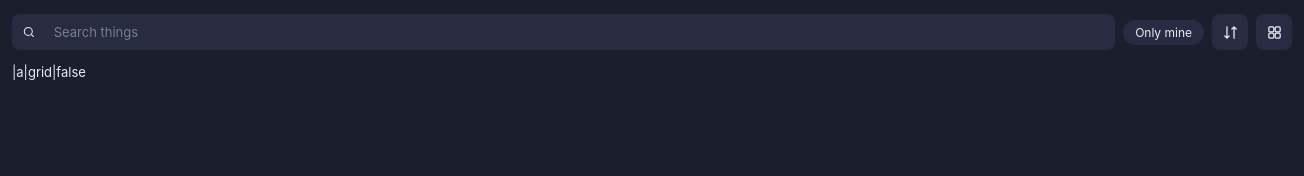
Test case: ListToolbar › the sort menu shows the current order with a check and changes it
Click the button named "Sort". click: (1230, 32)
box: left=1212, top=14, right=1248, bottom=50
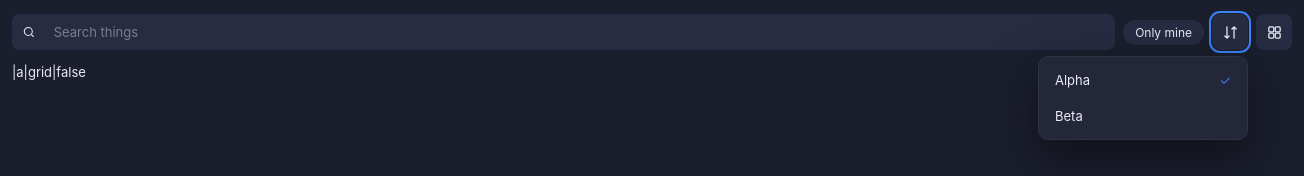
Click the menu item "Beta". click: (1143, 116)
box: left=1045, top=99, right=1241, bottom=133
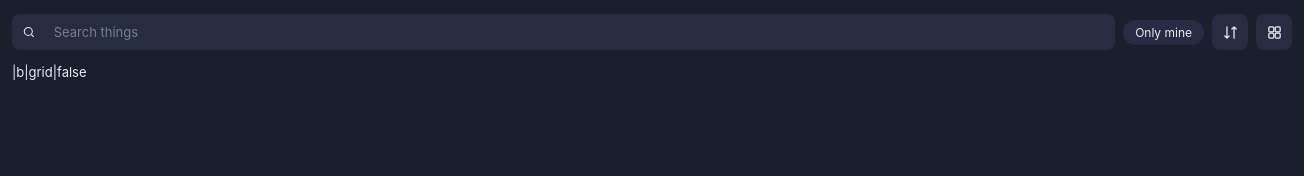
Now the text with test id "state" reads "|b|grid|false", box left=12, top=64, right=86, bottom=80
Now the menu "Alpha ✓ Beta" is gone
Click the button named "Sort". click: (1230, 32)
box: left=1212, top=14, right=1248, bottom=50
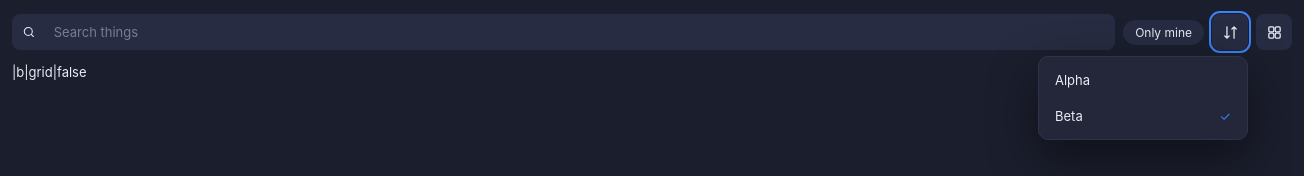
Press Escape
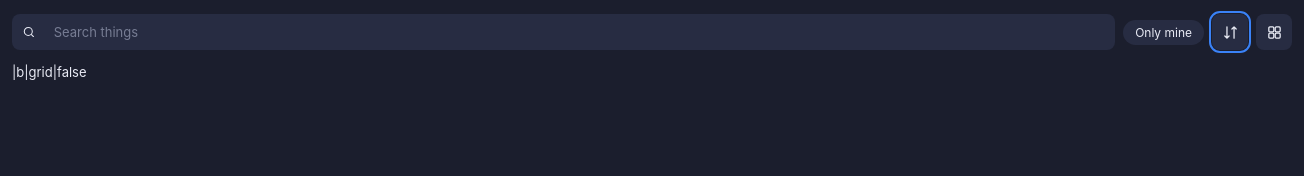
Now the menu "Alpha Beta ✓" is gone
